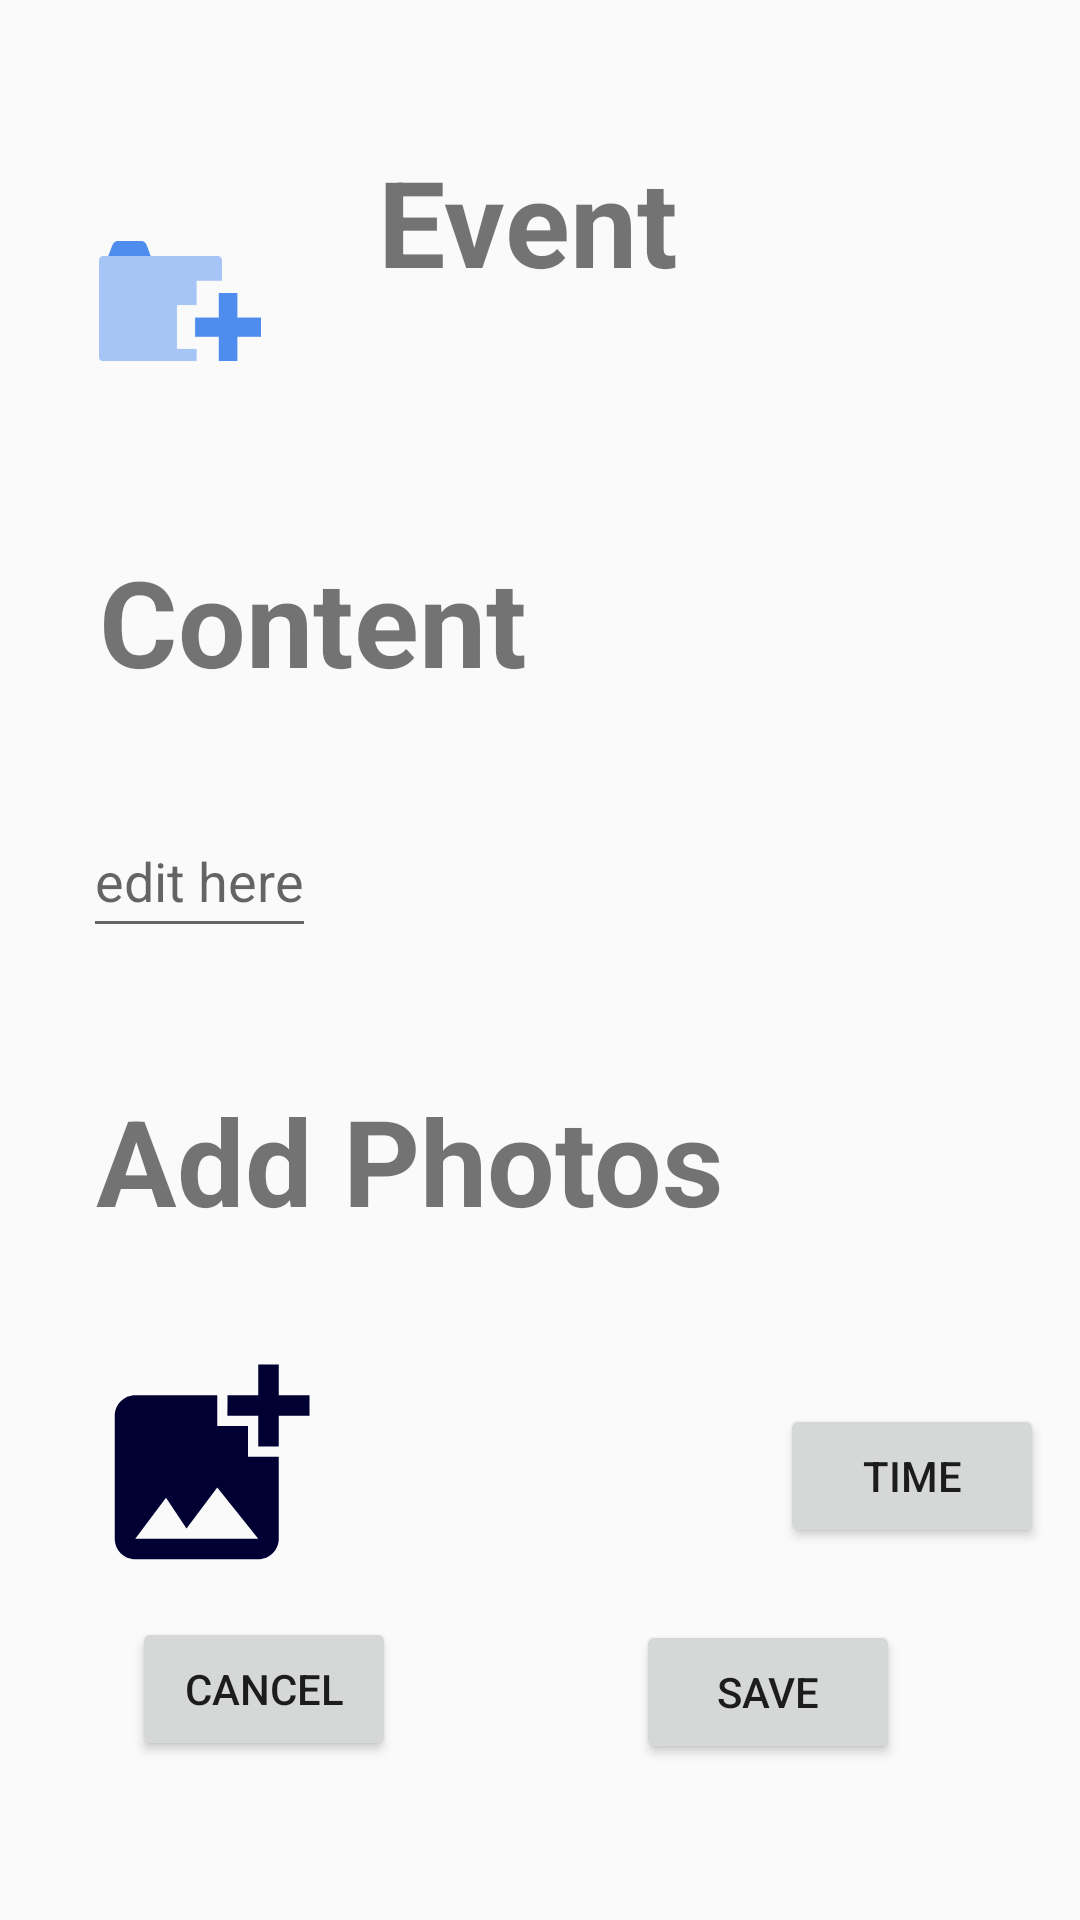

Icon bounding boxes for this 1080w x 1920h phone screenshot, format box(x1, y1, x2, y2):
add photo alternate: box(114, 1364, 310, 1560)
